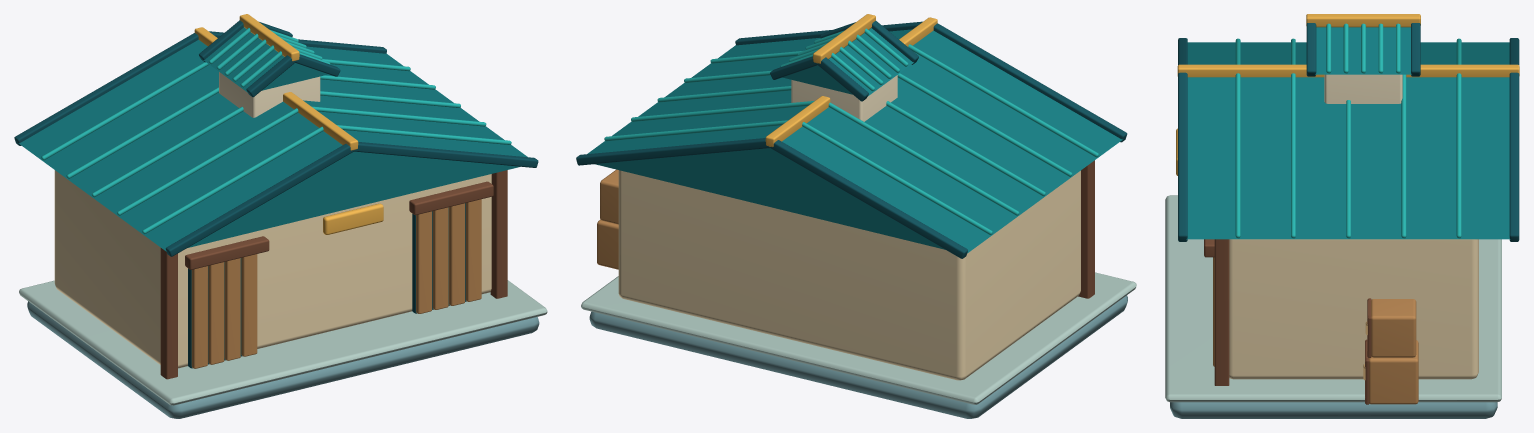
The model's file is Warehouse_T2.fbx.
The picture shows the model from 3 angles, left to right: view 1: azimuth 30°, elevation 25°; view 2: azimuth 150°, elevation 25°; view 3: azimuth 270°, elevation 25°; orthographic projection. The views are drawn at different scales.
Visible parts, largest first — view 1: Warehouse_T2_Static; view 2: Warehouse_T2_Static; view 3: Warehouse_T2_Static.
Boxes of the visible parts, box(x1,y1,x2,y2) form: Warehouse_T2_Static: box(14, 14, 547, 418); Warehouse_T2_Static: box(576, 14, 1136, 418); Warehouse_T2_Static: box(1165, 14, 1519, 418).
Size of the model in its own units: 6.8 by 4.58 by 4.76.
Materials: 1 (1 with a texture image).
